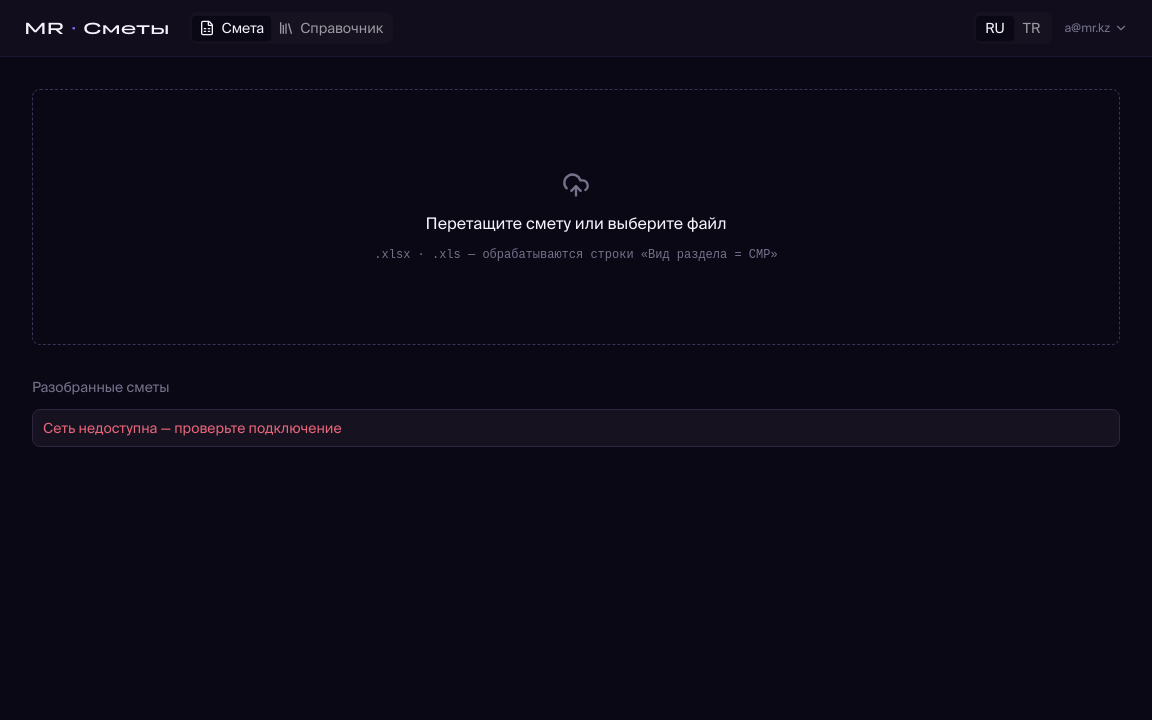
Scenario: App › после входа показывает поток сметы и переключает на справочник
The width and height of the screenshot is (1152, 720).
Expected: the file field named "файл сметы" is shown, [32,89,1120,345]
Click the tab "Справочник": (331, 28) [271,16,390,40]
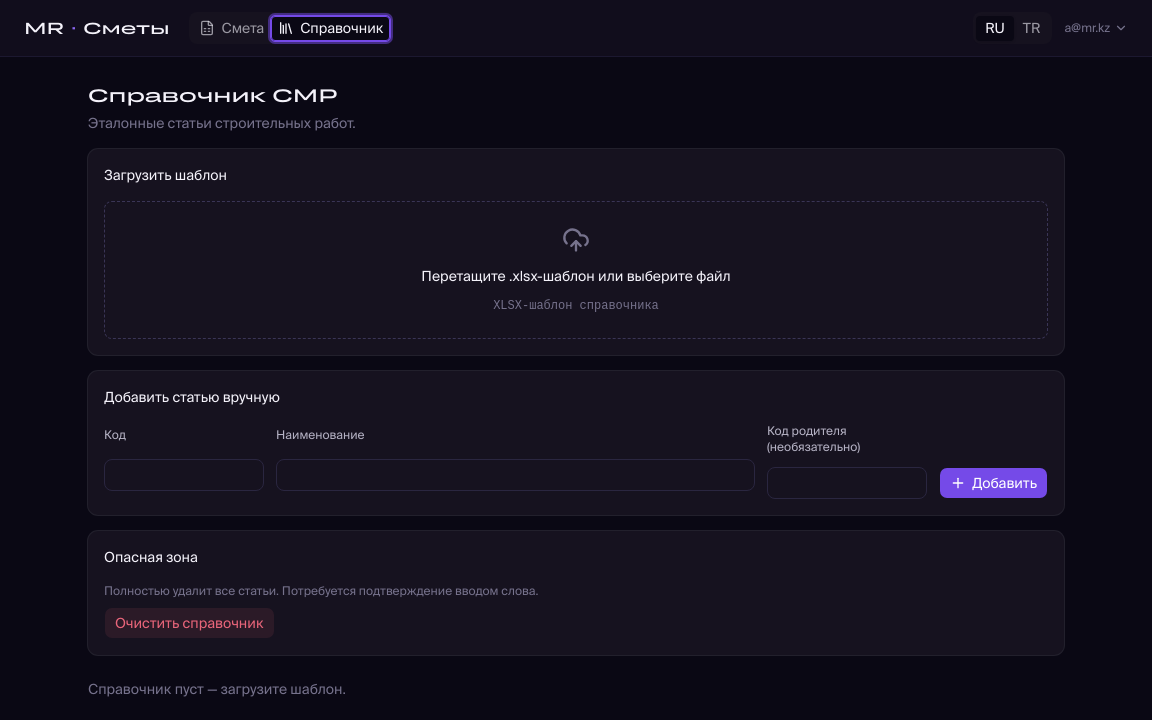
Expected: the heading "Справочник СМР" is shown, [88,84,338,106]
